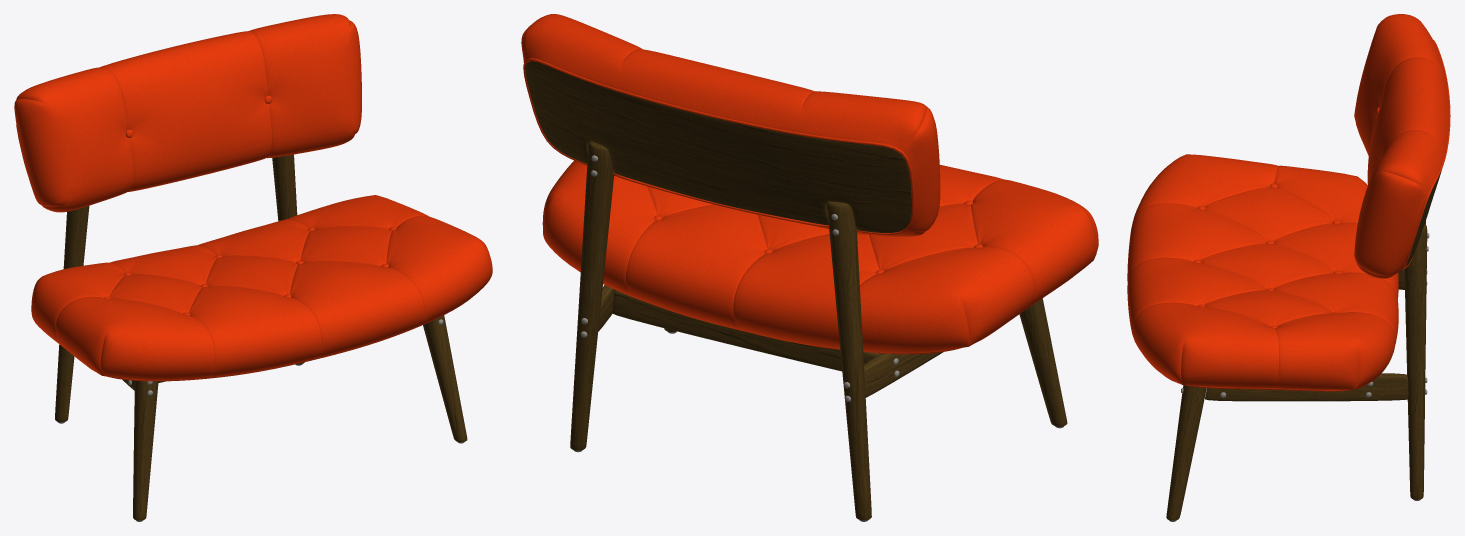
File: sheen_chair.glb
3 renders of one model, left to right at view 1: azimuth 30°, elevation 25°; view 2: azimuth 150°, elevation 25°; view 3: azimuth 270°, elevation 25°, orthographic. The views are drawn at different scales.
Parts seen in each view (by area): view 1: SheenChair_fabric, SheenChair_wood; view 2: SheenChair_fabric, SheenChair_wood; view 3: SheenChair_fabric, SheenChair_wood.
Part boxes in pixels (x1,y1,x2,y2): SheenChair_fabric: (14,14,492,381); SheenChair_wood: (55,154,467,520); SheenChair_fabric: (521,14,1098,354); SheenChair_wood: (525,61,1067,520); SheenChair_fabric: (1127,14,1450,391); SheenChair_wood: (1166,170,1441,520).
Bounding box in the file's own units: 0.8266 × 0.6862 × 0.5703.
4 materials, 3 textured.
